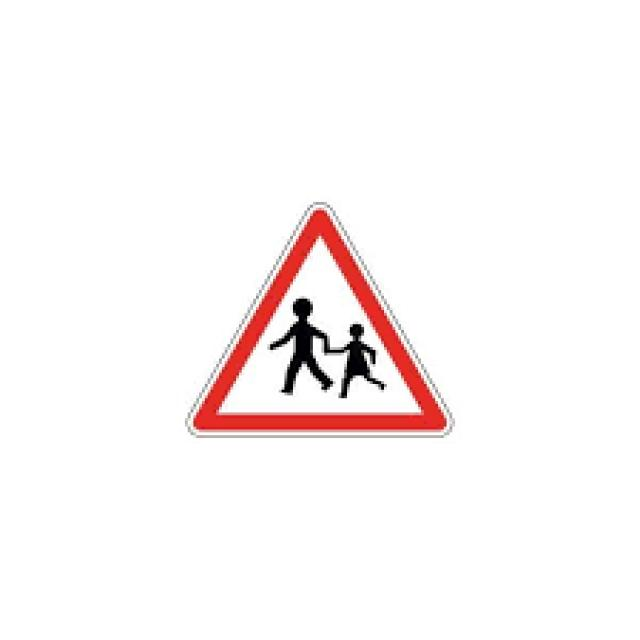AttentionEnfant: (182, 200, 460, 435)
